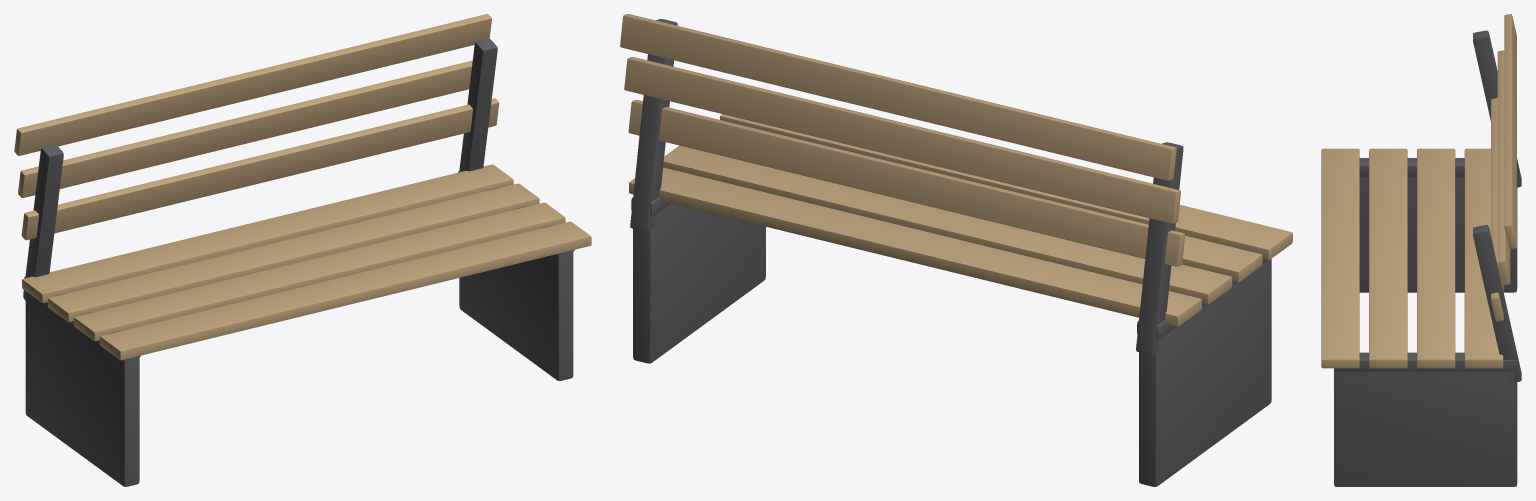
The model's file is garden-bench.glb.
3 views of the same model, side by side, from view 1: azimuth 30°, elevation 25°; view 2: azimuth 150°, elevation 25°; view 3: azimuth 270°, elevation 25° (orthographic). The views are drawn at different scales.
Parts seen in each view (by area): view 1: Cube, Cube.009, Cube.012, Cube.010, Cube.007, Cube.008, Cube.006, Cube.011, Cube.003, Cube.001, Cube.004; view 2: Cube.011, Cube.012, Cube, Cube.010, Cube.006, Cube.003, Cube.007, Cube.009, Cube.001, Cube.004, Cube.008; view 3: Cube.003, Cube.009, Cube.008, Cube.007, Cube.006, Cube, Cube.012, Cube.004, Cube.011, Cube.010, Cube.001, Cube.005 (+1 smaller).
Part boxes in pixels (x1,y1,x2,y2): Cube: (25, 292, 139, 486); Cube.009: (100, 221, 591, 360); Cube.012: (14, 14, 491, 155); Cube.010: (21, 98, 499, 240); Cube.007: (48, 183, 539, 322); Cube.008: (74, 202, 565, 341); Cube.006: (22, 164, 513, 302); Cube.011: (18, 60, 472, 197); Cube.003: (459, 187, 573, 380); Cube.001: (23, 144, 63, 300); Cube.004: (459, 38, 497, 171); Cube.011: (624, 57, 1180, 223); Cube.012: (620, 14, 1176, 180); Cube: (1139, 248, 1271, 486); Cube.010: (628, 100, 1185, 266); Cube.006: (629, 167, 1201, 326); Cube.003: (633, 169, 765, 363); Cube.007: (663, 145, 1232, 304); Cube.009: (720, 114, 1292, 260); Cube.001: (1136, 142, 1183, 355); Cube.004: (630, 19, 677, 231); Cube.008: (1182, 235, 1262, 282); Cube.003: (1334, 353, 1517, 486); Cube.009: (1321, 148, 1359, 368); Cube.008: (1369, 148, 1407, 368); Cube.007: (1417, 148, 1455, 368); Cube.006: (1464, 148, 1503, 368); Cube: (1359, 158, 1517, 292); Cube.012: (1504, 14, 1516, 248); Cube.004: (1473, 225, 1521, 381); Cube.011: (1497, 50, 1510, 285); Cube.010: (1491, 98, 1503, 321); Cube.001: (1473, 30, 1521, 187); Cube.005: (1334, 352, 1516, 371).
Bounding box in the file's own units: 1.5 × 0.8855 × 0.601.
